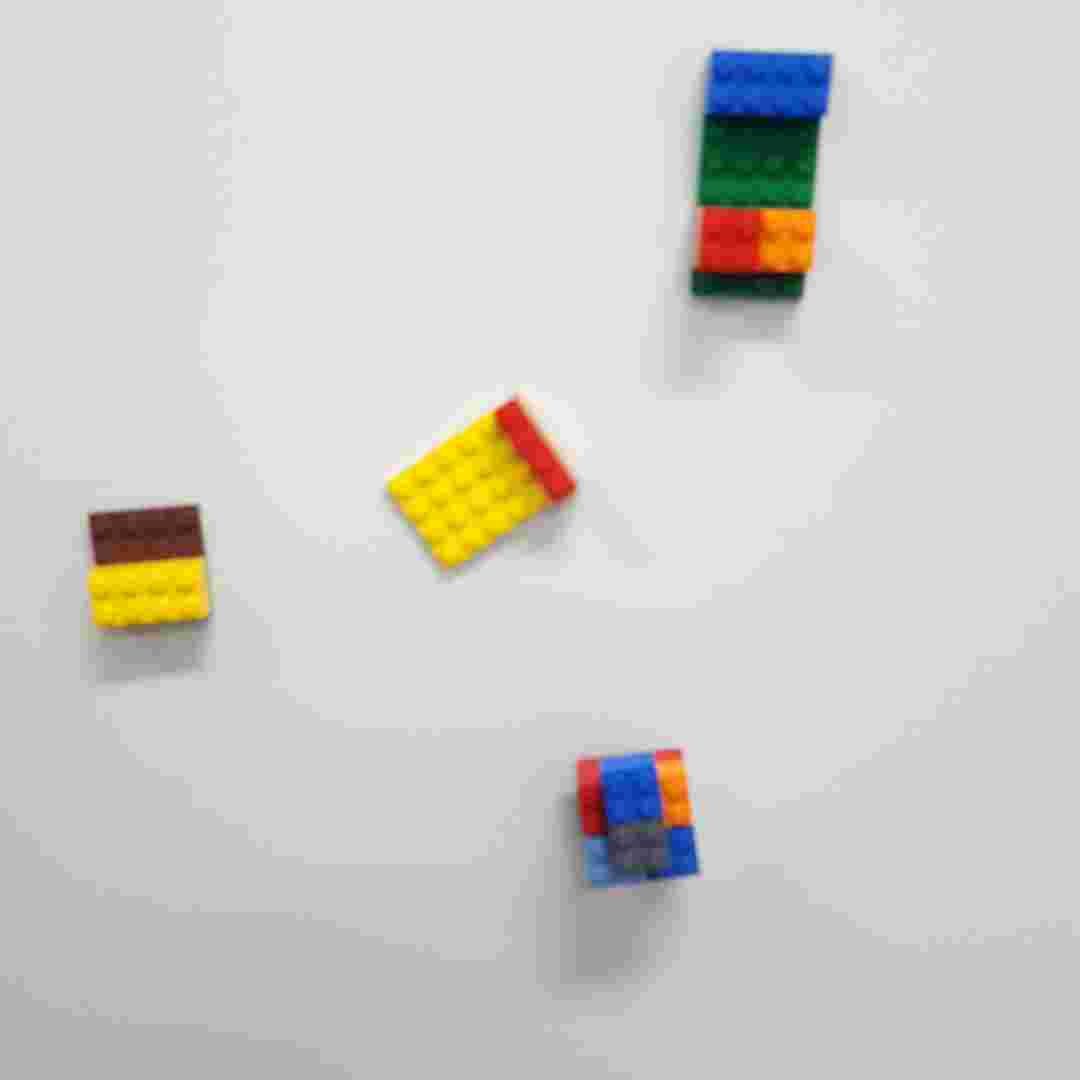LEGO: (685, 40, 845, 323), (379, 381, 583, 580), (569, 735, 706, 905), (84, 493, 230, 640)
